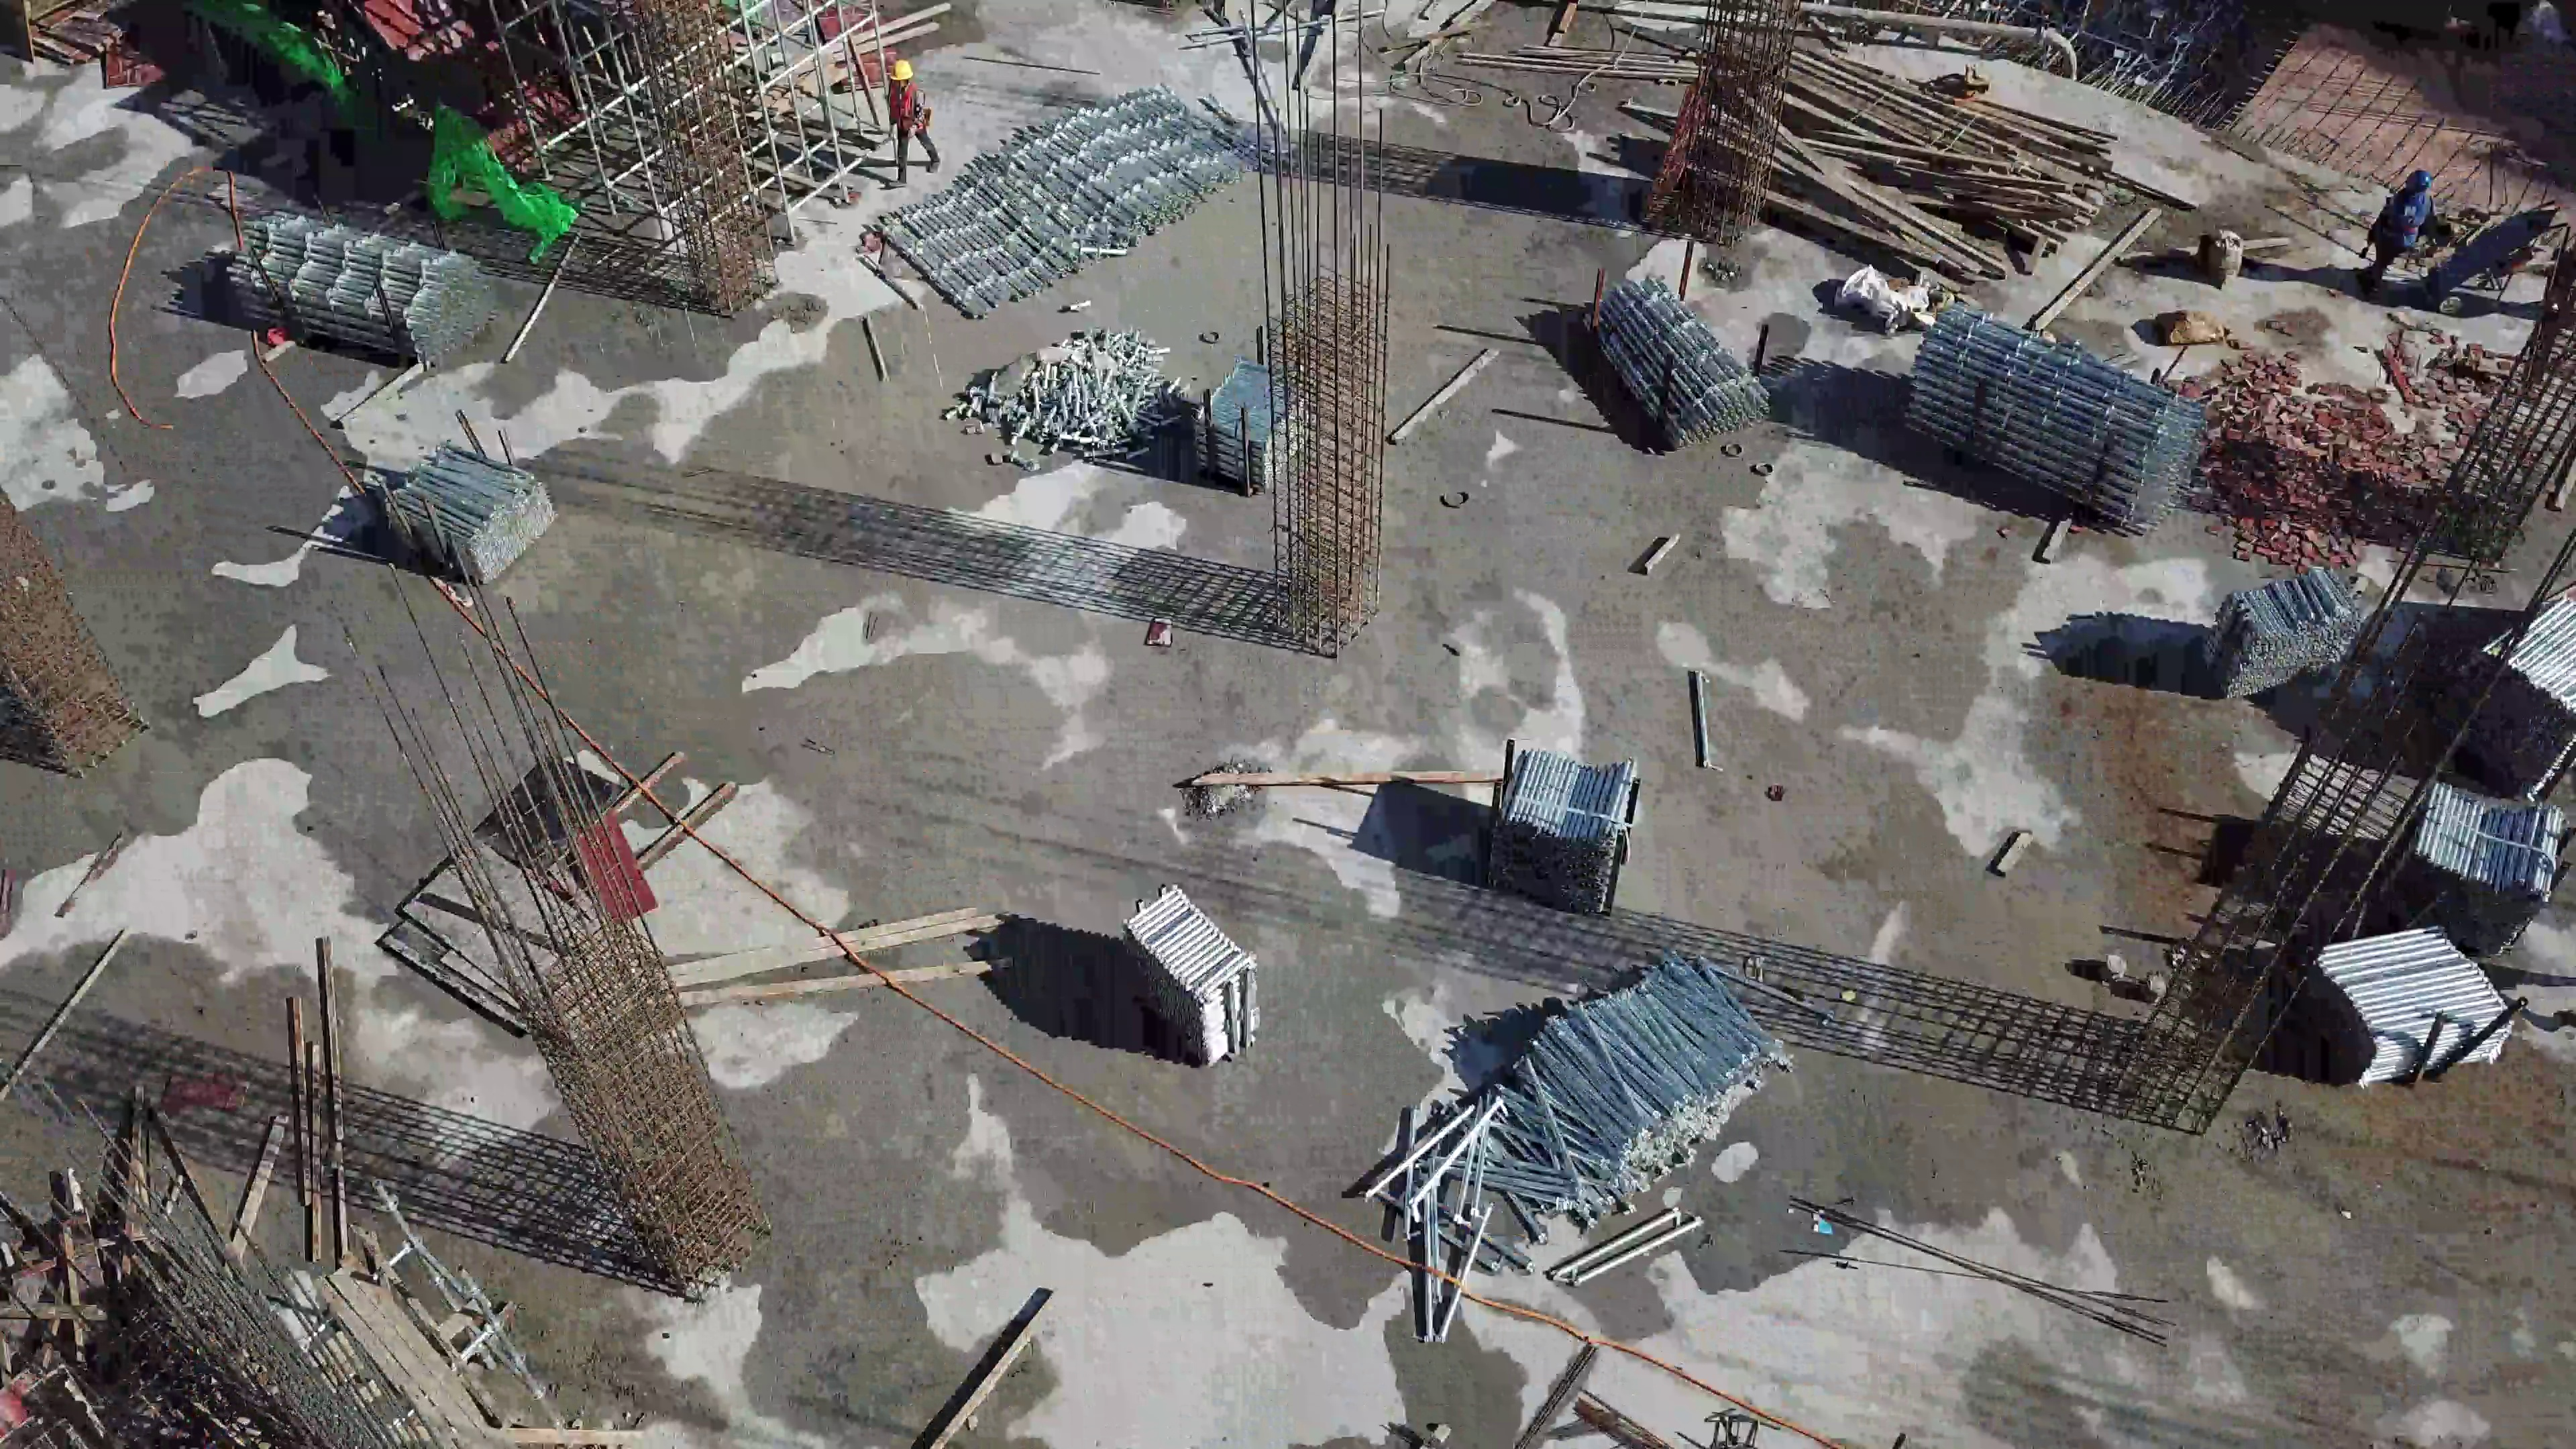board: (396, 751, 676, 1024)
helmet: (885, 62, 914, 83), (2405, 168, 2430, 190)
person: (2367, 168, 2439, 294), (877, 60, 945, 190)
scaffold: (1366, 945, 1844, 1335), (888, 85, 1259, 313), (1892, 299, 2212, 549), (210, 210, 527, 372), (2275, 912, 2536, 1079), (1577, 270, 1778, 447), (2358, 788, 2573, 953), (1113, 877, 1268, 1073), (1467, 738, 1643, 903), (2440, 583, 2576, 791), (960, 332, 1166, 470), (375, 435, 559, 585), (2212, 559, 2382, 690), (1185, 356, 1318, 484)
vest: (2373, 189, 2427, 260), (885, 85, 932, 138)
wood: (1760, 56, 2080, 258)
